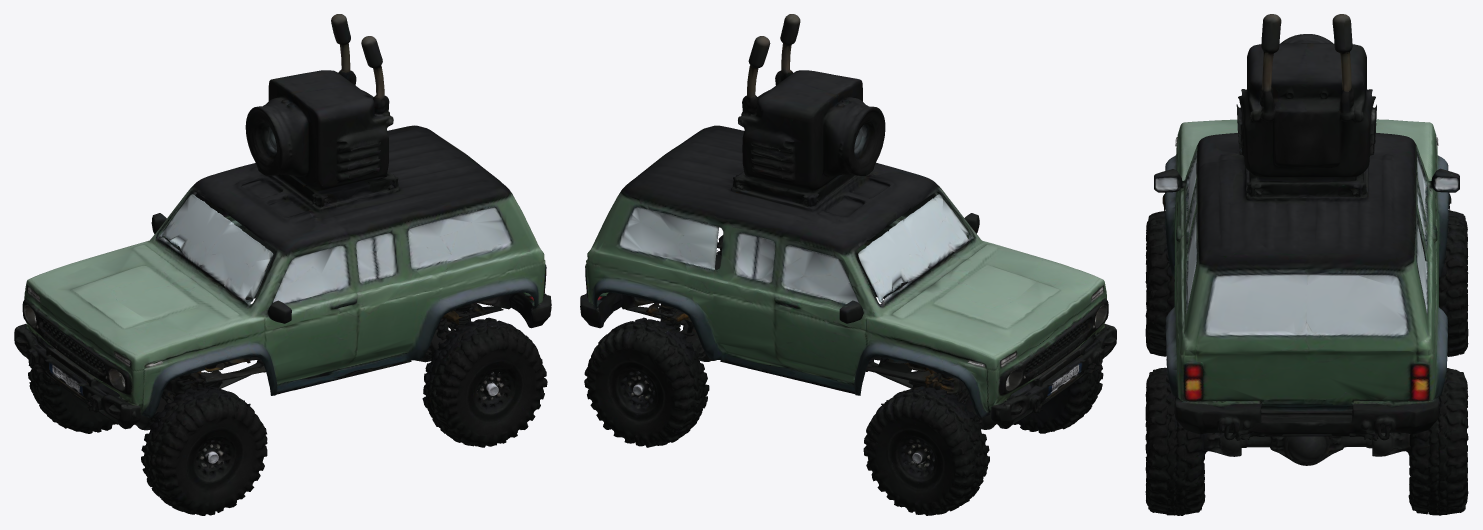
Rendered from meshy-scale-24.web.glb.
3 renders of one model, left to right at view 1: azimuth 30°, elevation 25°; view 2: azimuth 150°, elevation 25°; view 3: azimuth 270°, elevation 25°, orthographic. The views are drawn at different scales.
Size of the model in its own units: 2 by 1.68 by 1.09.
1 material, 1 textured.
